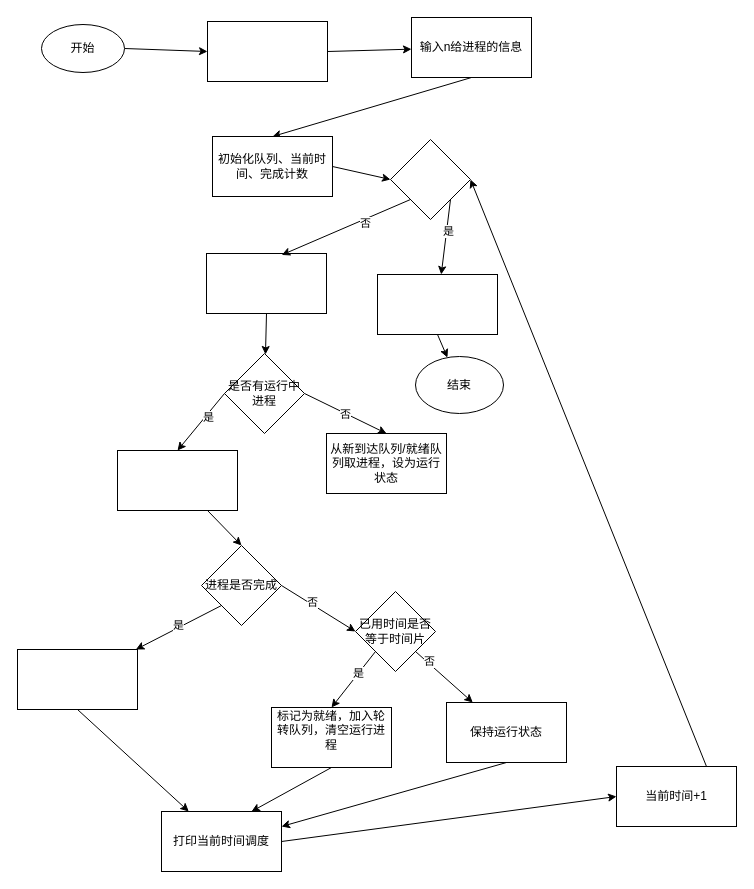
The diagram is 754 pixels wide and 889 high, and some of its shapes have lost their labels. Here are the shapes that lost their labels. From the top down, the centre of each, then its label:
At (267,51): "输入进程数量n和时间片大小".
At (430,179): "是否所有进程完成".
At (266,283): "将当前时间到达的进程加入新到达队列".
At (437,304): "打印最终调度信息，提示调度结束".
At (177,480): "执行1个时间单位，已用时间+1".
At (77,679): "标记为完成，完成计数+1，清空运行进程".
